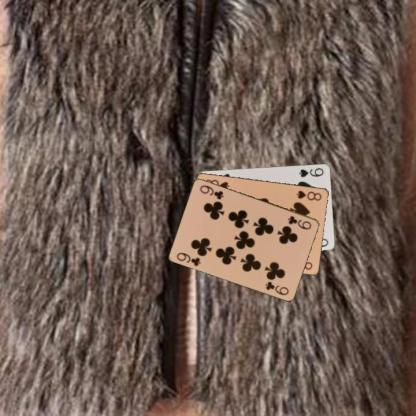8s: (294, 188, 323, 202)
9c: (174, 249, 202, 268), (286, 213, 312, 231)
9s: (296, 166, 325, 178)
